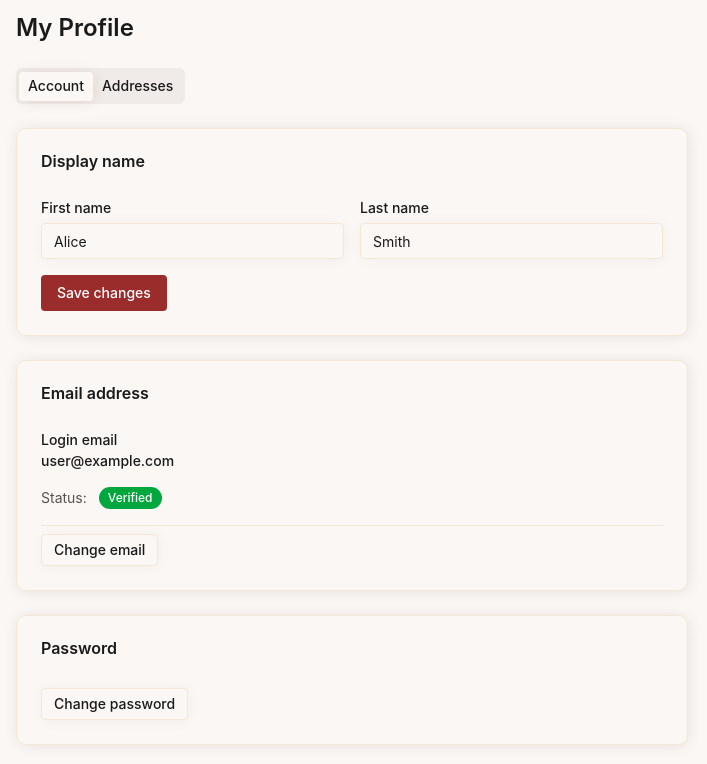
ProfilePageClient › renders empty state when there are no addresses
// Switch to the Addresses tab
Click the tab "Addresses" at (138, 86), box [93,72,182,100]
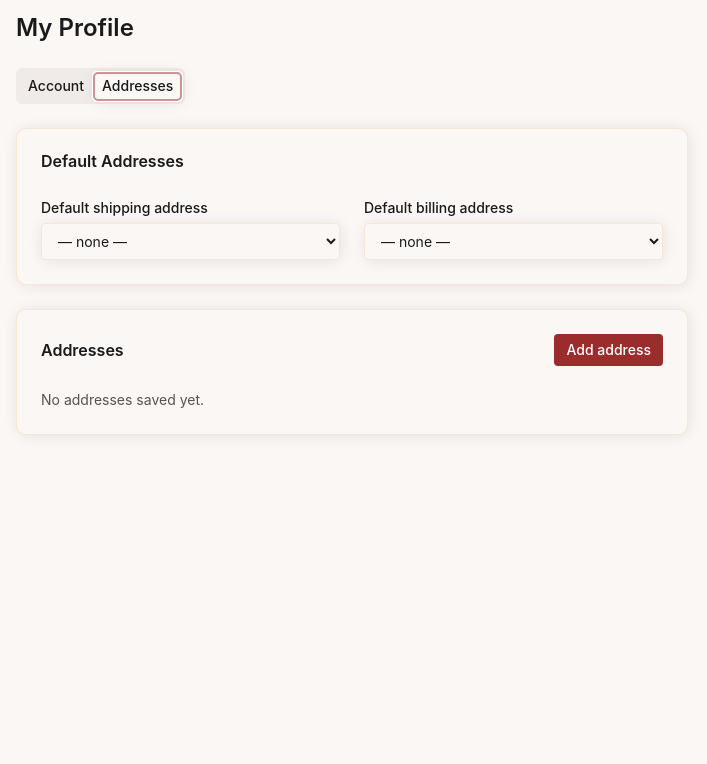
Expected: the text "No addresses saved yet." is shown, [41,391,204,408]
